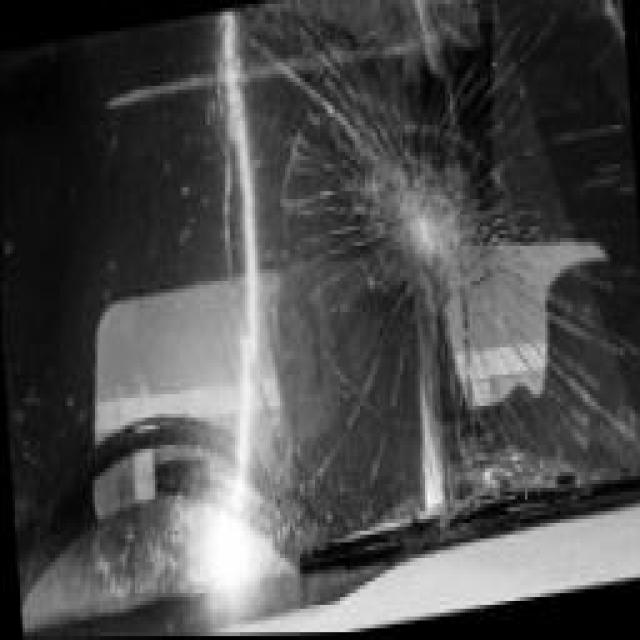Windshield: (28, 0, 640, 628)
